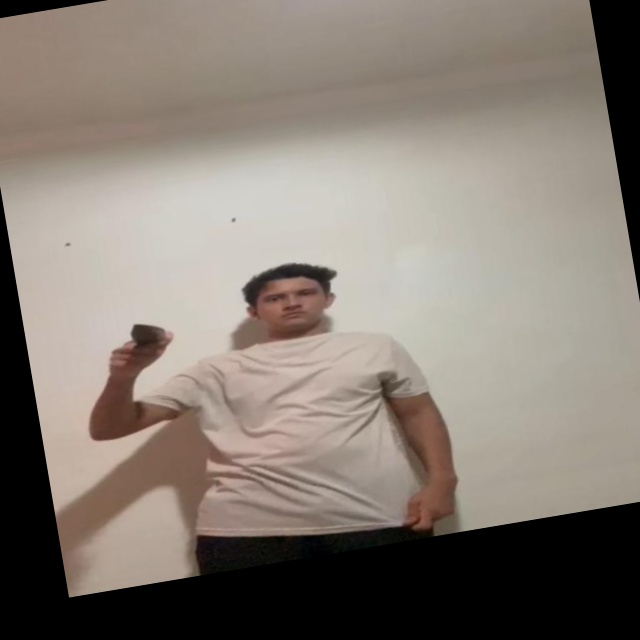Sharp-Object: (130, 319, 168, 345)
